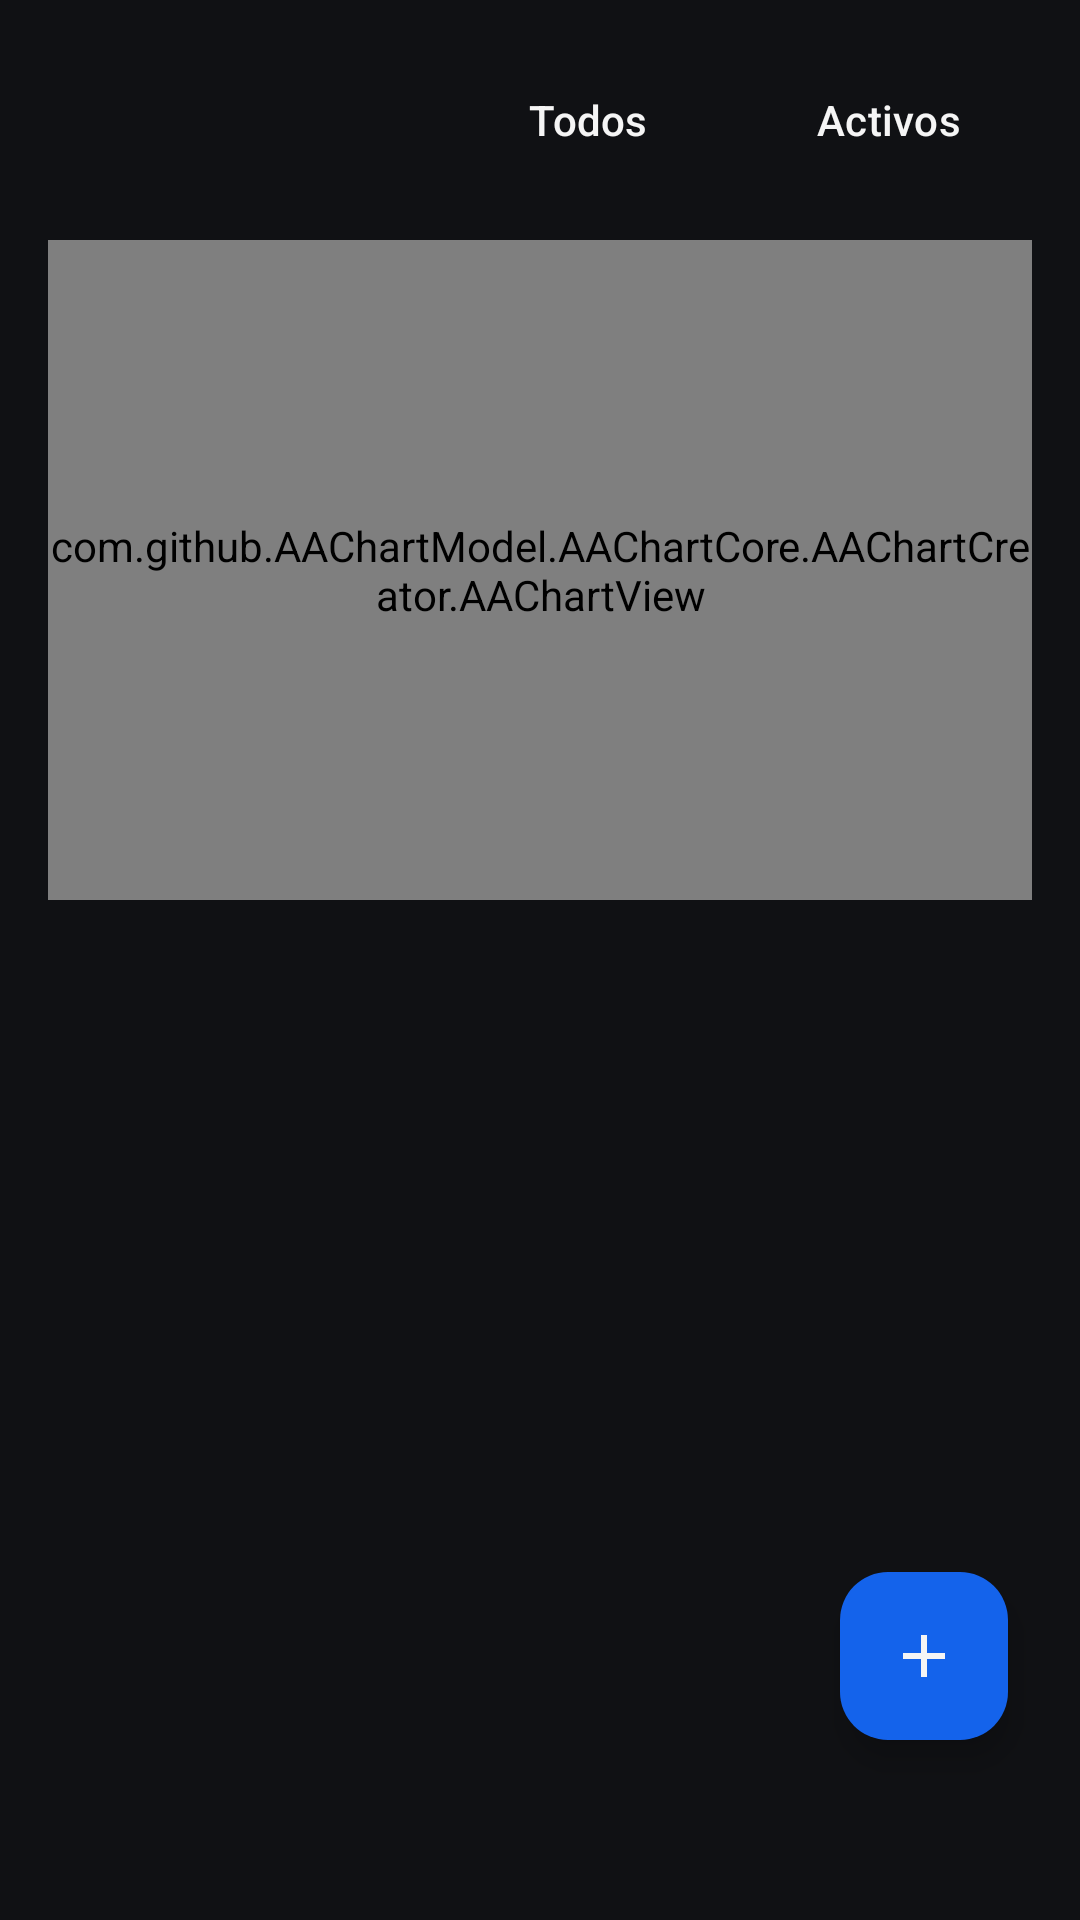

Named icons in this screenshot (1080*1920) and their centers, point (x, y):
Nuevo Kilometraje: point (924, 1656)
